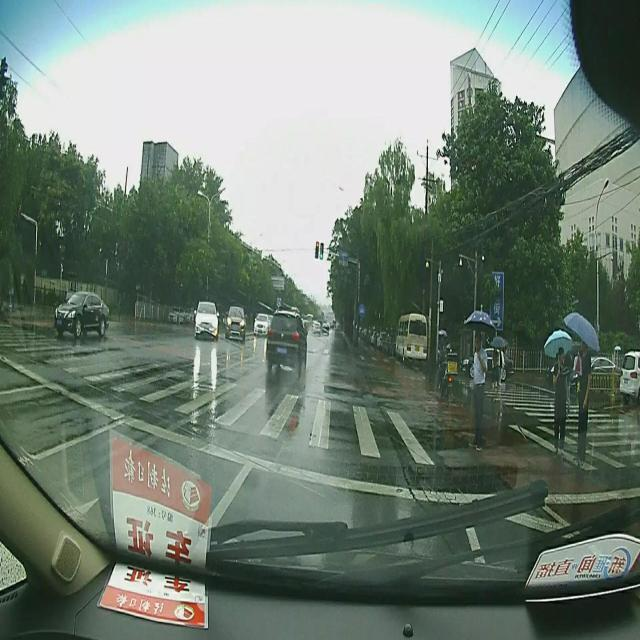car: (52, 287, 110, 339), (264, 306, 308, 374), (192, 300, 220, 343), (225, 304, 248, 344), (252, 314, 271, 338), (318, 317, 331, 339), (310, 318, 322, 337)
